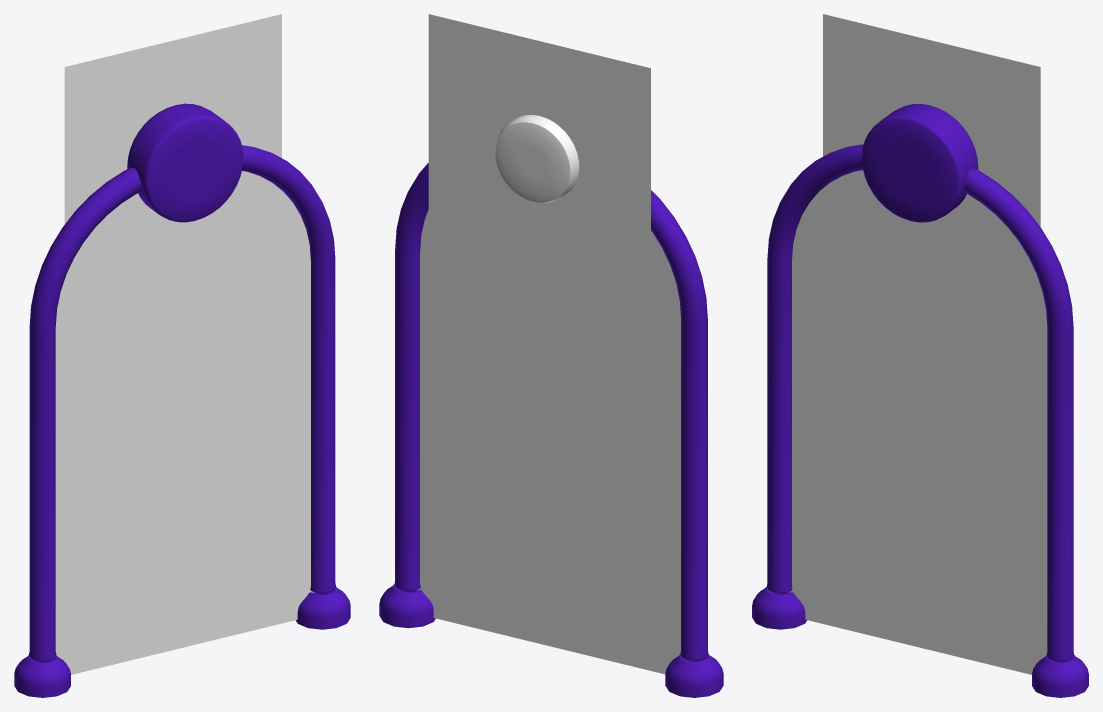
File: Gate_01.fbx
The picture shows the model from 3 angles, left to right: view 1: azimuth 30°, elevation 25°; view 2: azimuth 150°, elevation 25°; view 3: azimuth 330°, elevation 25°; orthographic projection. The views are drawn at different scales.
Parts seen in each view (by area): view 1: Gate_01, Bloom; view 2: Gate_01, Bloom; view 3: Gate_01, Bloom.
Part boxes in pixels (bbox=[...]): Gate_01: bbox=[14, 103, 350, 697]; Bloom: bbox=[64, 14, 281, 224]; Gate_01: bbox=[379, 115, 723, 697]; Bloom: bbox=[428, 14, 650, 300]; Gate_01: bbox=[752, 104, 1088, 697]; Bloom: bbox=[823, 14, 1040, 226].
Bounding box in the file's own units: 106 × 17.94 × 186.
